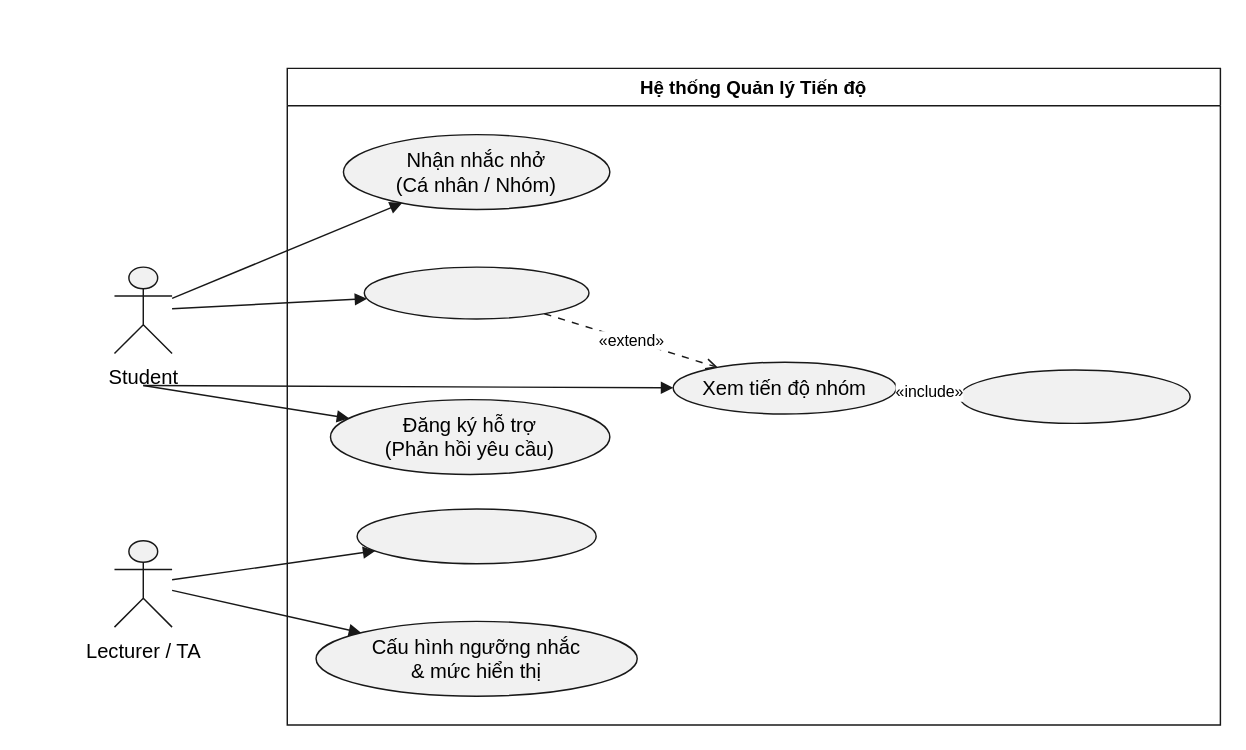
This 1246x750 diagram has some shape labels left out. The shapes that lost their labels are listed below. From the top down, each one's centre as x and y in pixels, then its label:
At [476,292]: "Gửi yêu cầu hỗ trợ".
At [1074,396]: "Xem trạng thái nộp".
At [476,536]: "Theo dõi tiến độ lớp".
